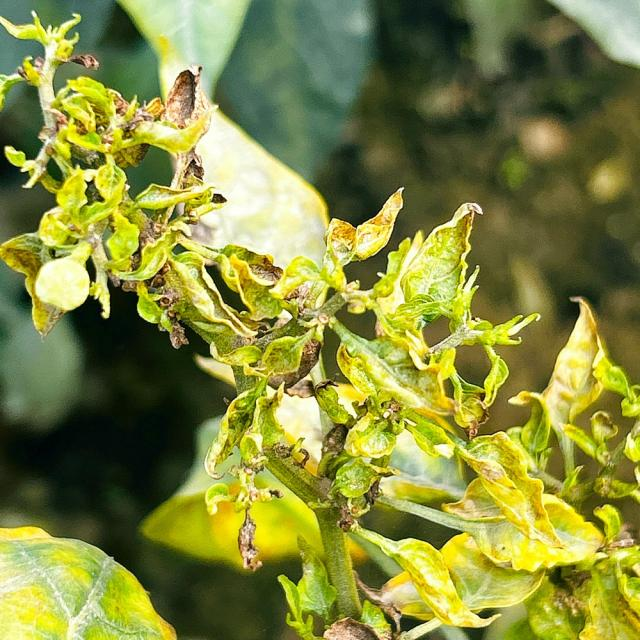Chilli_Leaf_Curl: (1, 7, 638, 637), (1, 8, 225, 341), (0, 523, 177, 638), (34, 255, 92, 312)
